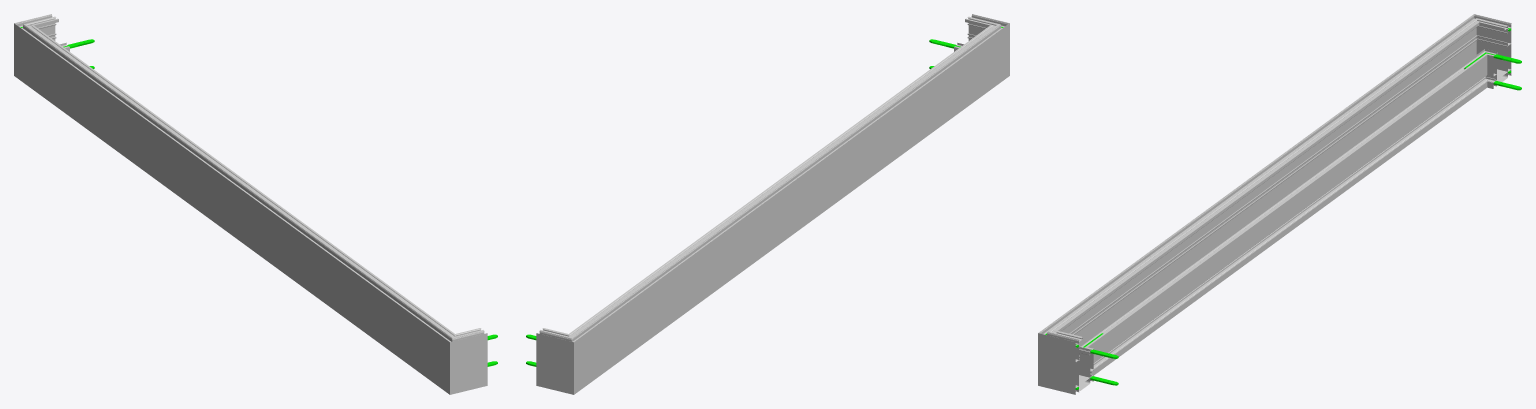
3 views of the same model, side by side, from view 1: azimuth 30°, elevation 25°; view 2: azimuth 150°, elevation 25°; view 3: azimuth 330°, elevation 25° (orthographic).
Parts seen in each view (by area): view 1: 3DGeom-270, 3DGeom-278, 3DGeom-272; view 2: 3DGeom-270, 3DGeom-272, 3DGeom-278; view 3: 3DGeom-270, 3DGeom-278, 3DGeom-272.
Part boxes in pixels (box(x1,y1,x2,y2)): 3DGeom-270: box(36, 36, 439, 378); 3DGeom-278: box(428, 323, 487, 394); 3DGeom-272: box(14, 14, 69, 91); 3DGeom-270: box(584, 36, 987, 378); 3DGeom-272: box(536, 323, 595, 394); 3DGeom-278: box(954, 14, 1009, 91); 3DGeom-270: box(1060, 30, 1483, 375); 3DGeom-278: box(1038, 317, 1093, 394); 3DGeom-272: box(1452, 14, 1511, 89).
Size of the model in its own units: 0.2562 by 0.2032 by 3.05.
